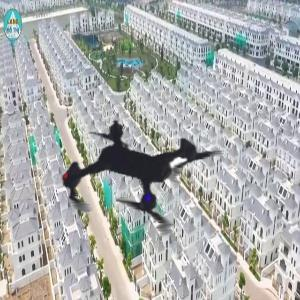drone: (17, 57, 257, 297)
